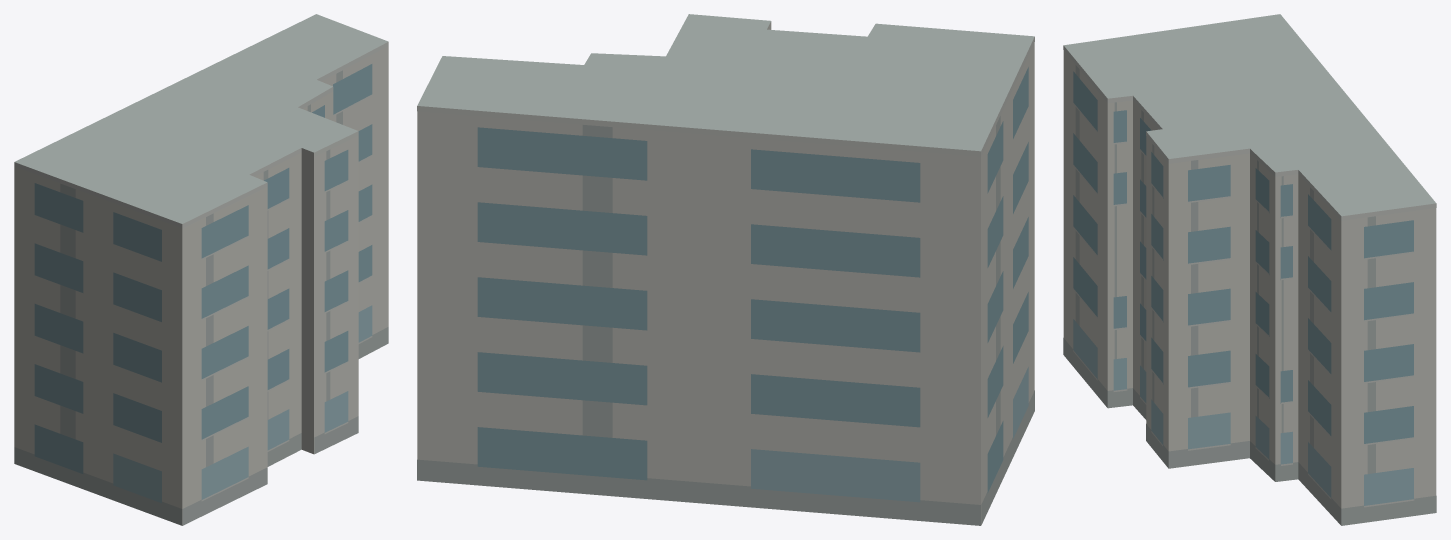
File: survey-upis-32862329.glb
3 renders of one model, left to right at view 1: azimuth 30°, elevation 25°; view 2: azimuth 150°, elevation 25°; view 3: azimuth 270°, elevation 25°, orthographic. The views are drawn at different scales.
Visible parts, largest first — view 1: survey-upis-32862329.tmp; view 2: survey-upis-32862329.tmp; view 3: survey-upis-32862329.tmp.
Boxes of the visible parts, <box> form: survey-upis-32862329.tmp: <box>14,14,388,525</box>; survey-upis-32862329.tmp: <box>417,14,1034,525</box>; survey-upis-32862329.tmp: <box>1063,14,1436,525</box>.
Size of the model in its own units: 22.93 by 16.35 by 17.86.
